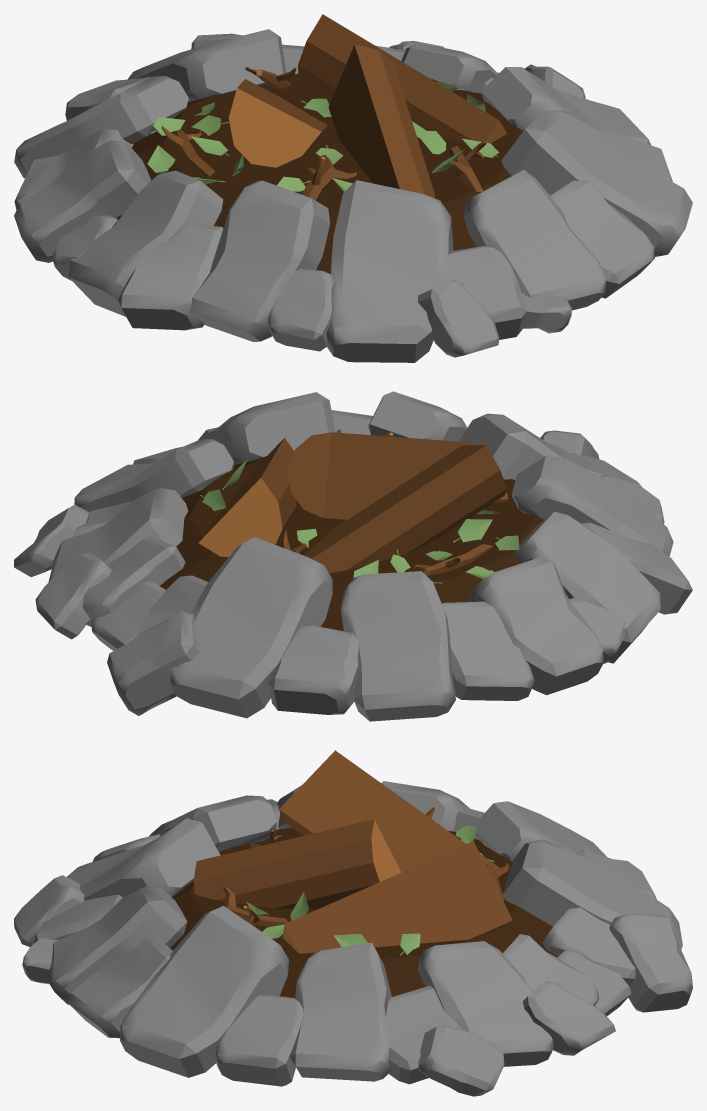
The model's file is firepit.gltf.
3 renders of one model, top to bottom at view 1: azimuth 30°, elevation 25°; view 2: azimuth 150°, elevation 25°; view 3: azimuth 270°, elevation 25°, orthographic. The views are drawn at different scales.
Parts seen in each view (by area): view 1: rocks, base, wood_03, wood_02, wood_01, branch_03, branch_02, branch_01, branch_04; view 2: rocks, wood_01, base, wood_03, wood_02, branch_01, leaf_02; view 3: rocks, wood_02, wood_03, wood_01, base, branch_02.
Part boxes in pixels (x1,y1,x2,y2): rocks: (14,29,692,362); base: (116,74,523,273); wood_03: (328,44,434,197); wood_02: (298,14,507,143); wood_01: (228,79,327,167); branch_03: (302,155,357,200); branch_02: (449,142,486,192); branch_01: (161,126,214,177); branch_04: (245,67,296,88); rocks: (14,391,692,721); wood_01: (304,445,506,573); base: (159,456,544,631); wood_03: (287,432,470,519); wood_02: (198,438,296,556); branch_01: (414,544,493,575); leaf_02: (453,519,492,542); rocks: (14,781,692,1096); wood_02: (282,841,512,953); wood_03: (193,819,401,909); wood_01: (279,750,499,879); base: (170,828,558,1064); branch_02: (223,887,287,926).
Size of the model in its own units: 4.38 by 1.37 by 4.78.
Materials: 1 (1 with a texture image).
